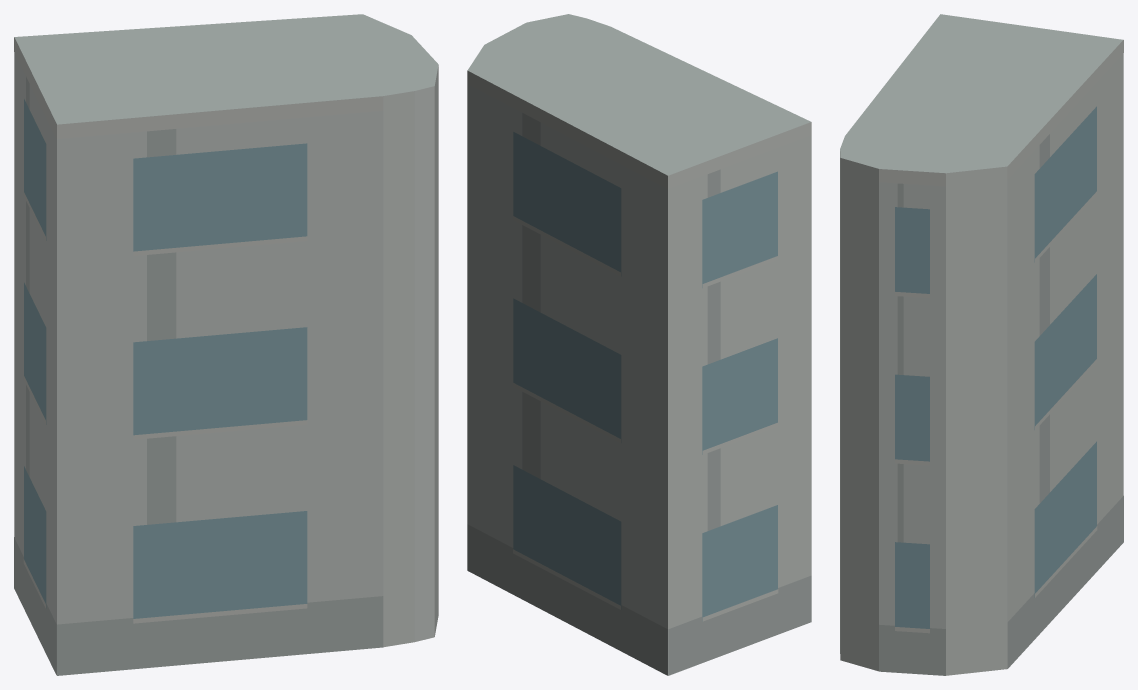
The model's file is survey-upis-32733573.glb.
3 views of the same model, side by side, from view 1: azimuth 30°, elevation 25°; view 2: azimuth 150°, elevation 25°; view 3: azimuth 270°, elevation 25° (orthographic). The views are drawn at different scales.
Visible parts, largest first — view 1: survey-upis-32733573.tmp; view 2: survey-upis-32733573.tmp; view 3: survey-upis-32733573.tmp.
Part boxes in pixels (box(x1,y1,x2,y2)): survey-upis-32733573.tmp: box(14, 14, 438, 675); survey-upis-32733573.tmp: box(467, 14, 811, 675); survey-upis-32733573.tmp: box(840, 14, 1123, 675).
Bounding box in the file's own units: 6.22 × 9.15 × 4.68.
